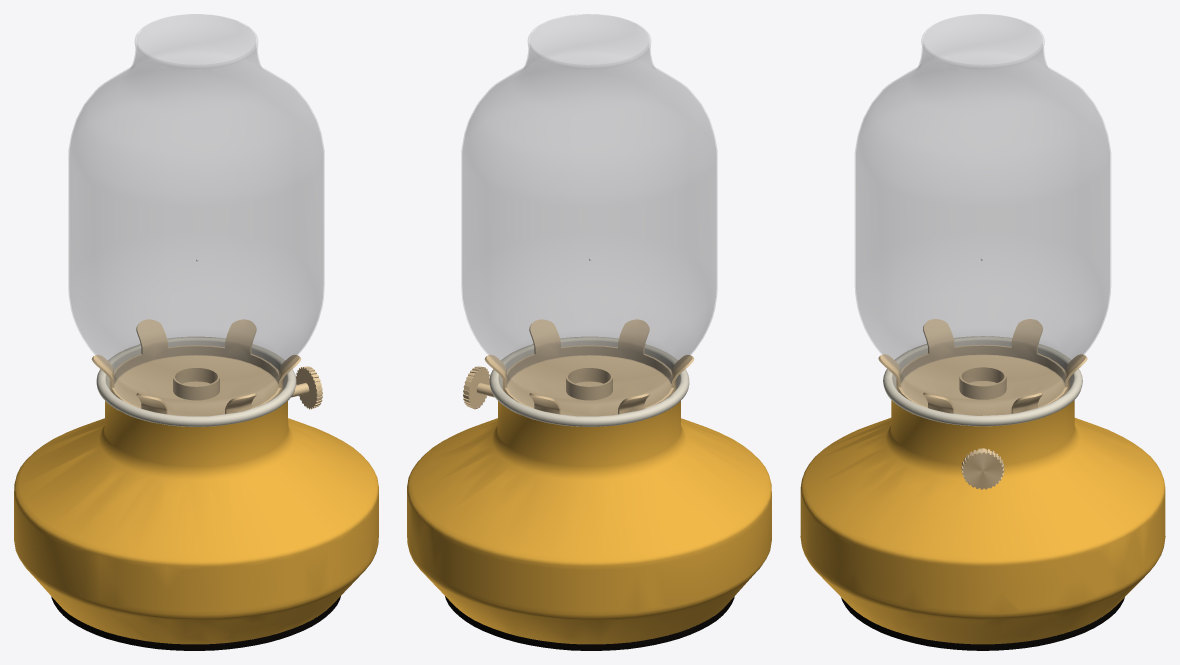
The model's file is taernaby_table_lamp_dimmable_dark_yellow.glb.
The picture shows the model from 3 angles, left to right: view 1: azimuth 30°, elevation 25°; view 2: azimuth 150°, elevation 25°; view 3: azimuth 270°, elevation 25°; orthographic projection.
Parts seen in each view (by area): view 1: 10577685_table_lamp:5, 10577685_table_lamp:1.001, 10577685_table_lamp:3, 10577685_table_lamp:2, 10577685_table_lamp:8; view 2: 10577685_table_lamp:5, 10577685_table_lamp:1.001, 10577685_table_lamp:3, 10577685_table_lamp:2, 10577685_table_lamp:8; view 3: 10577685_table_lamp:5, 10577685_table_lamp:1.001, 10577685_table_lamp:3, 10577685_table_lamp:2, 10577685_table_lamp:8, 10577685_table_lamp:9.
Part boxes in pixels (left/top/right/bottom): 10577685_table_lamp:5: left=68, top=14, right=324, bottom=415; 10577685_table_lamp:1.001: left=14, top=401, right=378, bottom=644; 10577685_table_lamp:3: left=91, top=319, right=322, bottom=416; 10577685_table_lamp:2: left=96, top=336, right=296, bottom=426; 10577685_table_lamp:8: left=51, top=596, right=340, bottom=650; 10577685_table_lamp:5: left=461, top=14, right=717, bottom=415; 10577685_table_lamp:1.001: left=407, top=401, right=771, bottom=644; 10577685_table_lamp:3: left=463, top=319, right=694, bottom=416; 10577685_table_lamp:2: left=489, top=336, right=689, bottom=426; 10577685_table_lamp:8: left=445, top=596, right=734, bottom=650; 10577685_table_lamp:5: left=855, top=14, right=1110, bottom=415; 10577685_table_lamp:1.001: left=800, top=400, right=1165, bottom=644; 10577685_table_lamp:3: left=878, top=319, right=1087, bottom=487; 10577685_table_lamp:2: left=883, top=336, right=1082, bottom=426; 10577685_table_lamp:8: left=841, top=597, right=1124, bottom=650; 10577685_table_lamp:9: left=962, top=452, right=1003, bottom=489.
Size of the model in its own units: 0.1537 by 0.2556 by 0.1537.
Materials: 7 (1 with a texture image).
